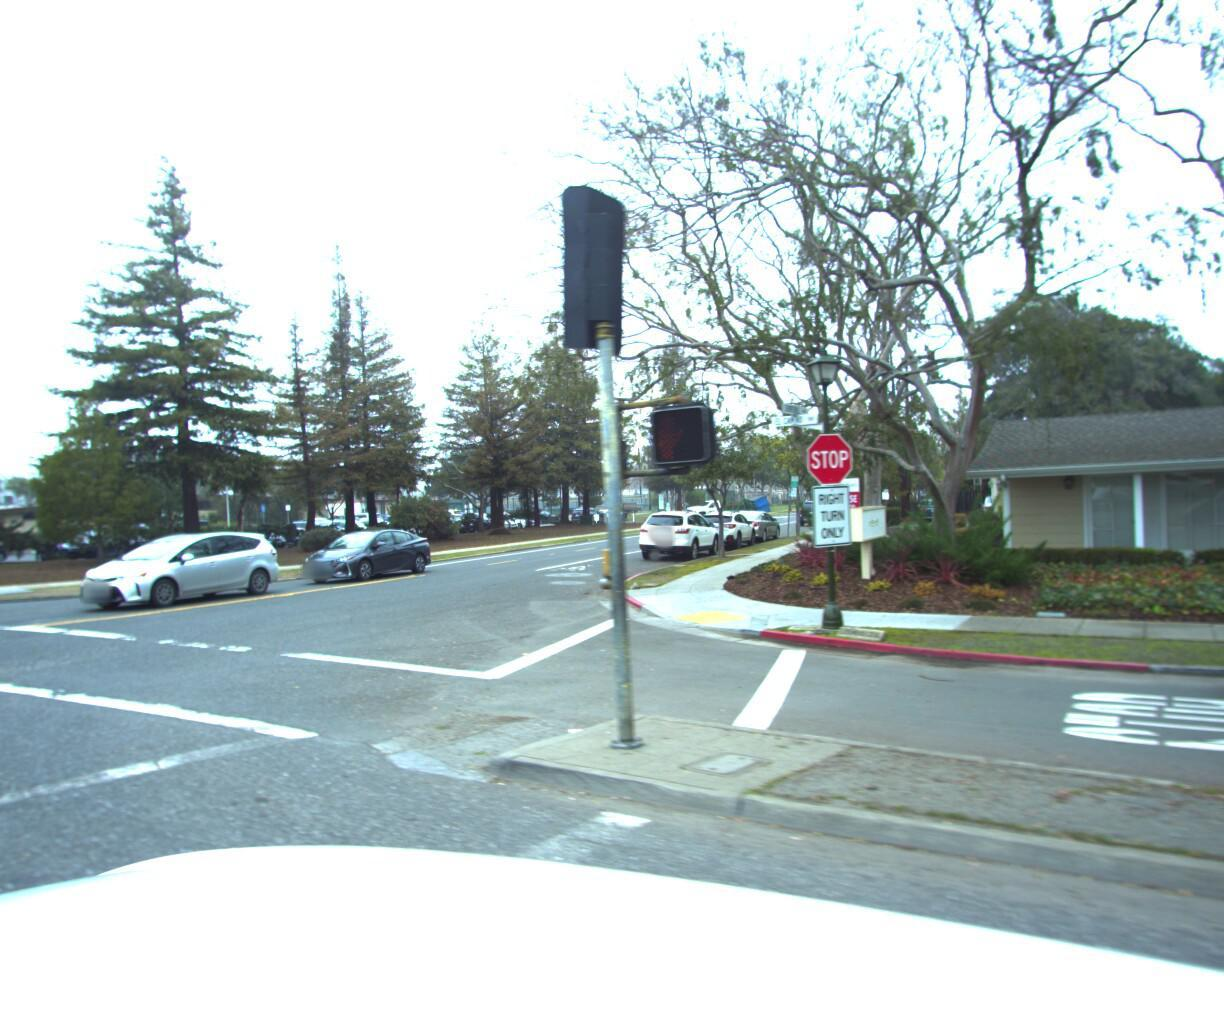car: (54, 523, 290, 612), (287, 519, 437, 585), (1207, 478, 1224, 797), (629, 499, 723, 558), (692, 501, 761, 545), (722, 501, 783, 538), (686, 489, 754, 514)
other_vehicle: (743, 492, 785, 515)
